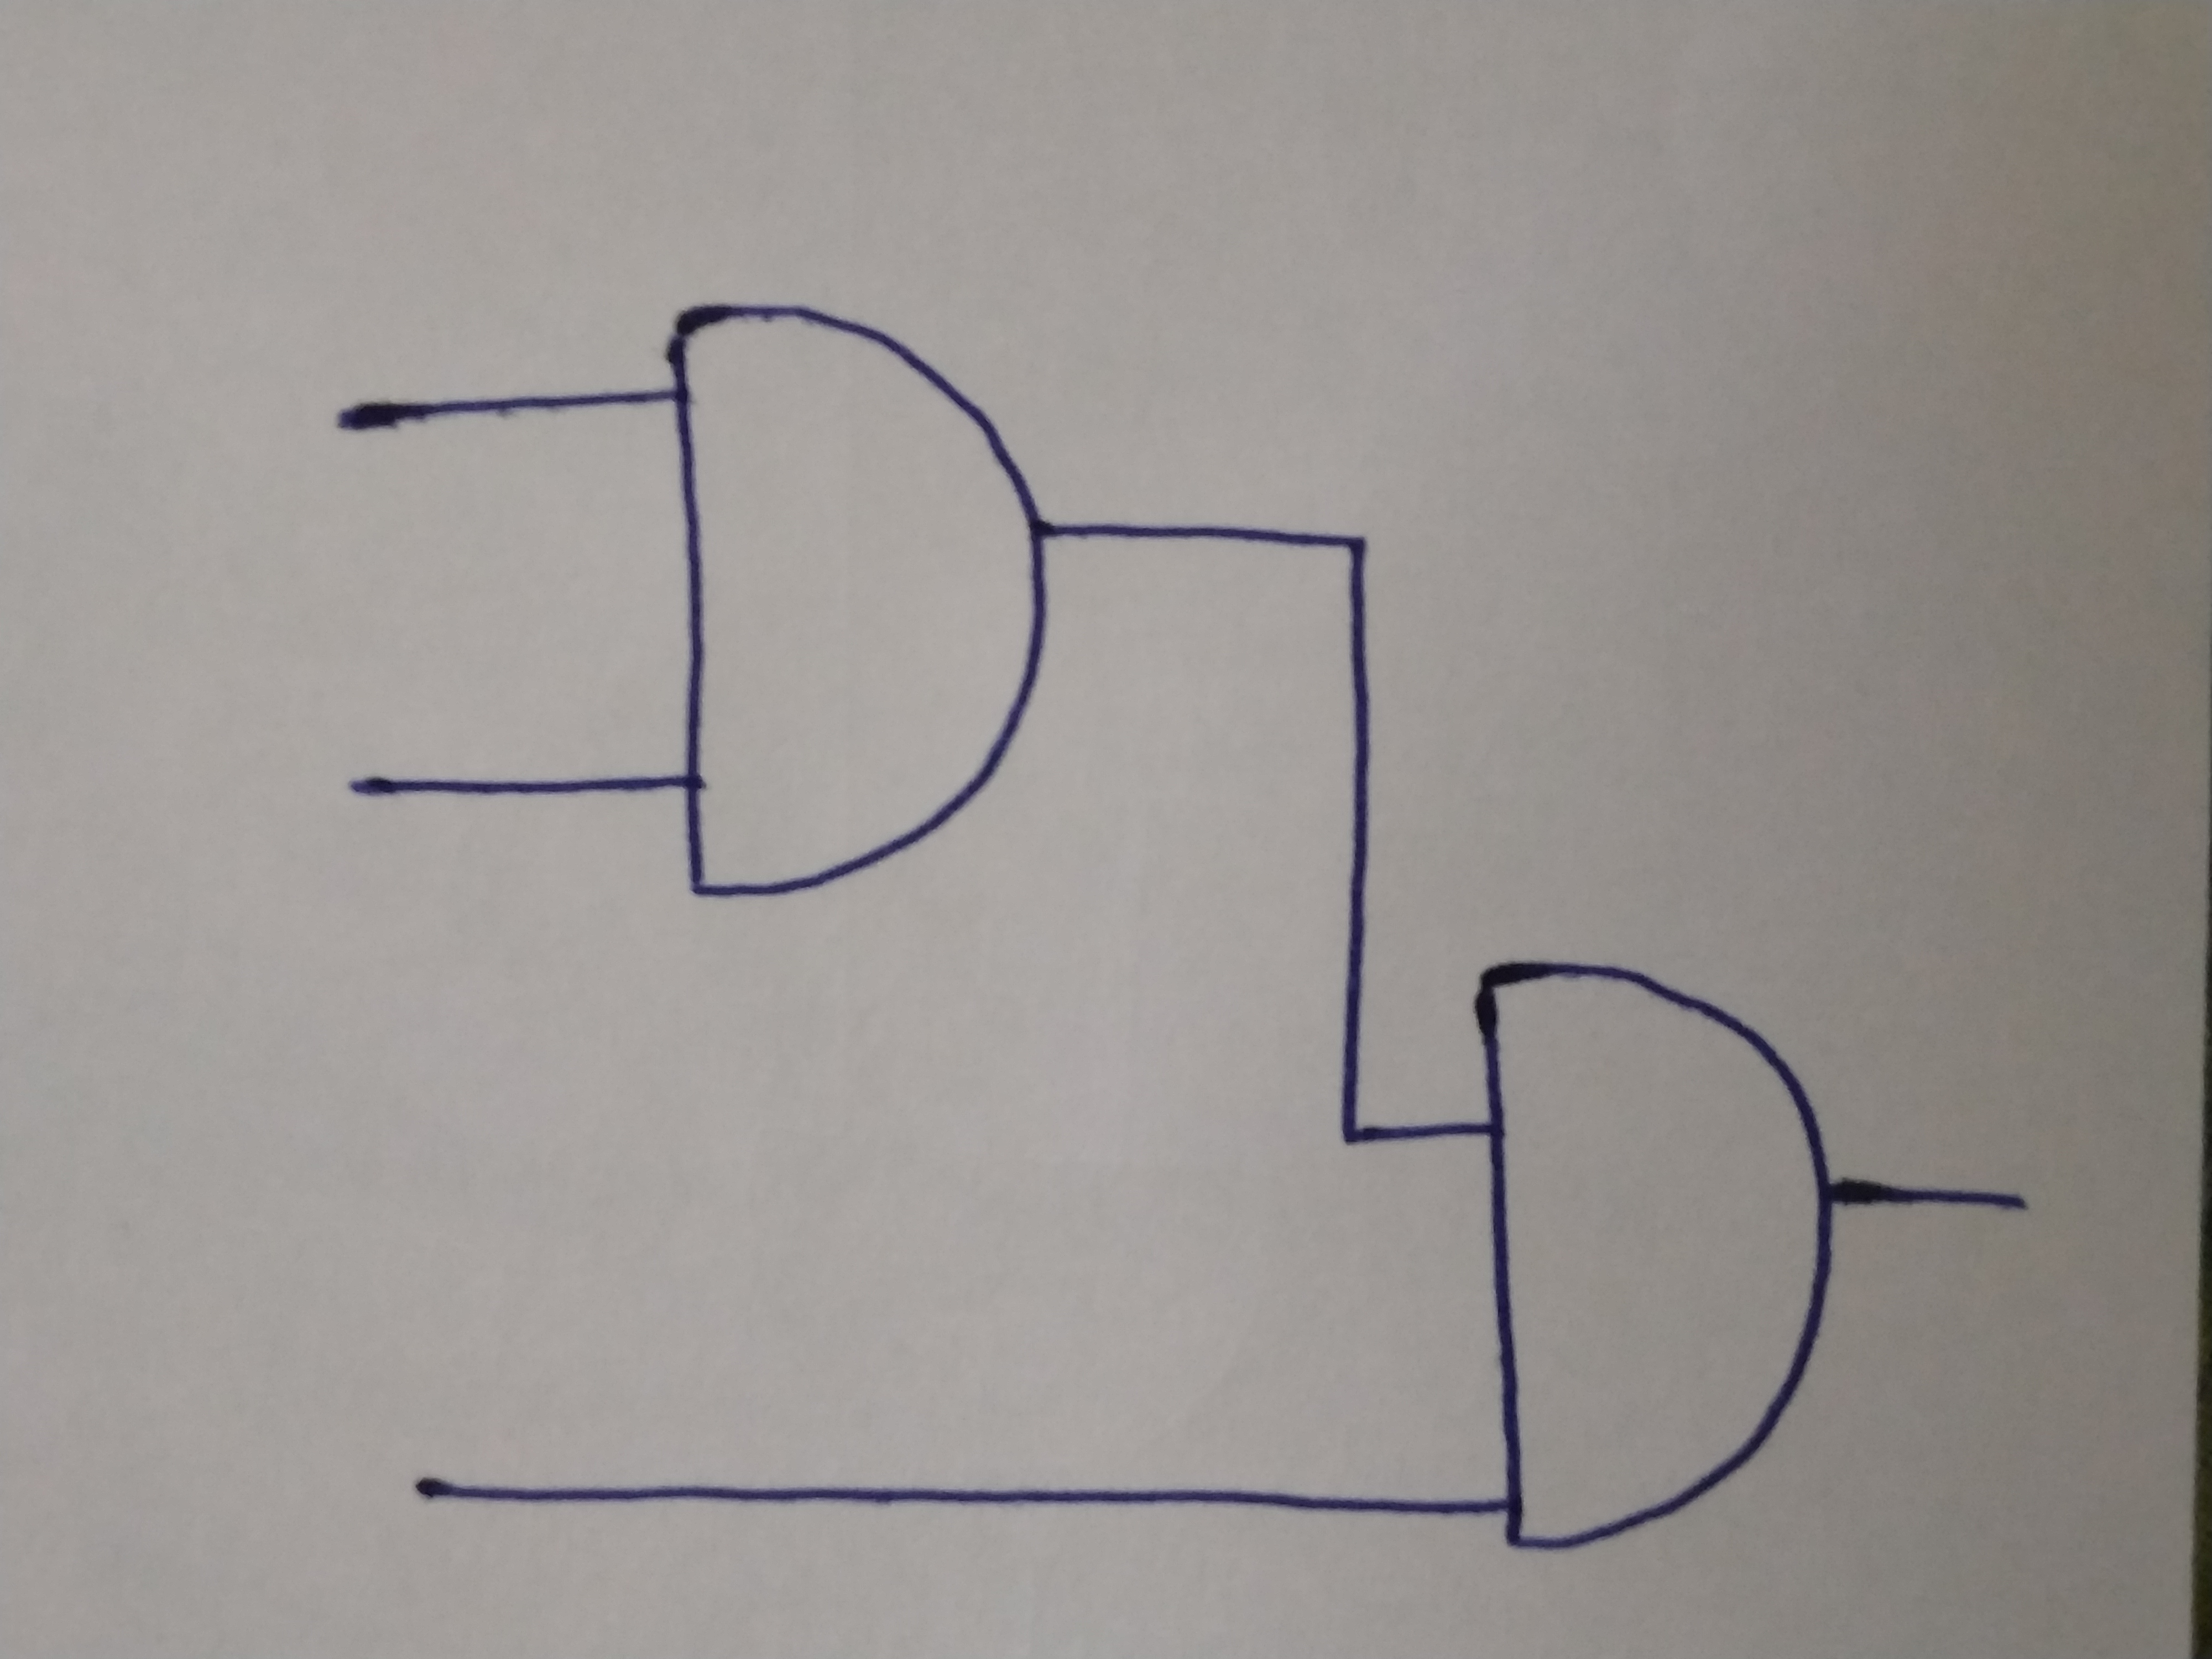and: (665, 296, 1038, 894), (1477, 960, 1825, 1549)
